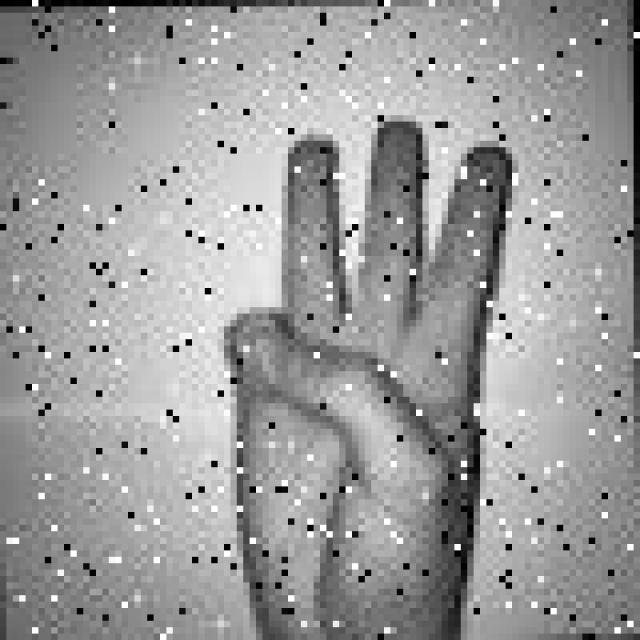W: (230, 102, 538, 640)
